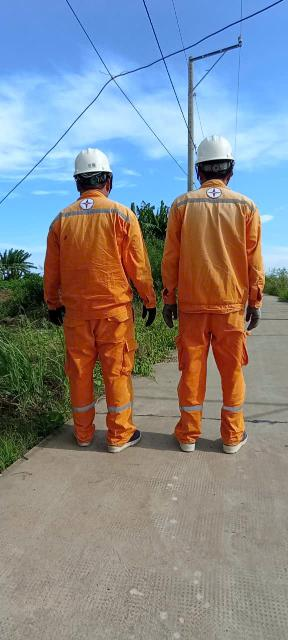gloves: (44, 298, 72, 332), (157, 301, 182, 330), (247, 302, 263, 333), (138, 303, 158, 327)
helmet: (69, 140, 117, 184), (186, 132, 235, 168)
shoes: (212, 425, 255, 455), (166, 424, 202, 454), (112, 426, 142, 455)
